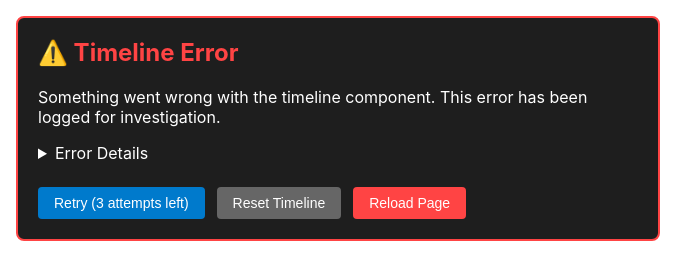
Scenario: TimelineErrorBoundary › Error Recovery › should decrease retry count on each retry
# First retry
Click the button "Retry (3 attempts left)": (121, 203) [38,187,205,219]
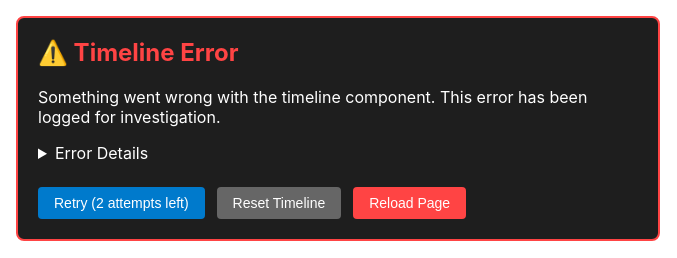
Result: the button "Retry (2 attempts left)" is shown
# Second retry
Click the button "Retry (2 attempts left)": (121, 203) [38,187,205,219]
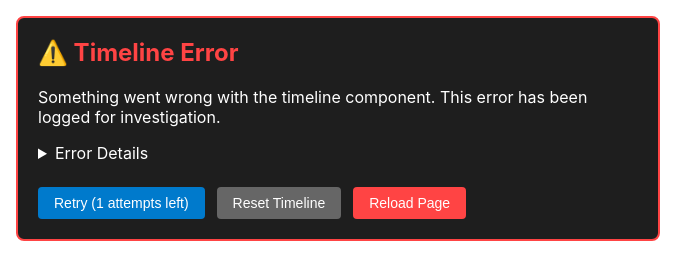
Result: the button "Retry (1 attempts left)" is shown at [38,187,205,219]
